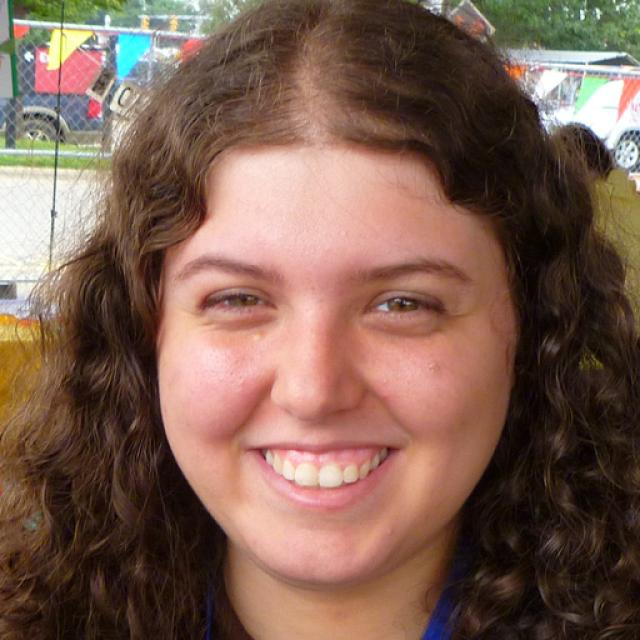Acne: (251, 327, 272, 342), (424, 360, 443, 373)
